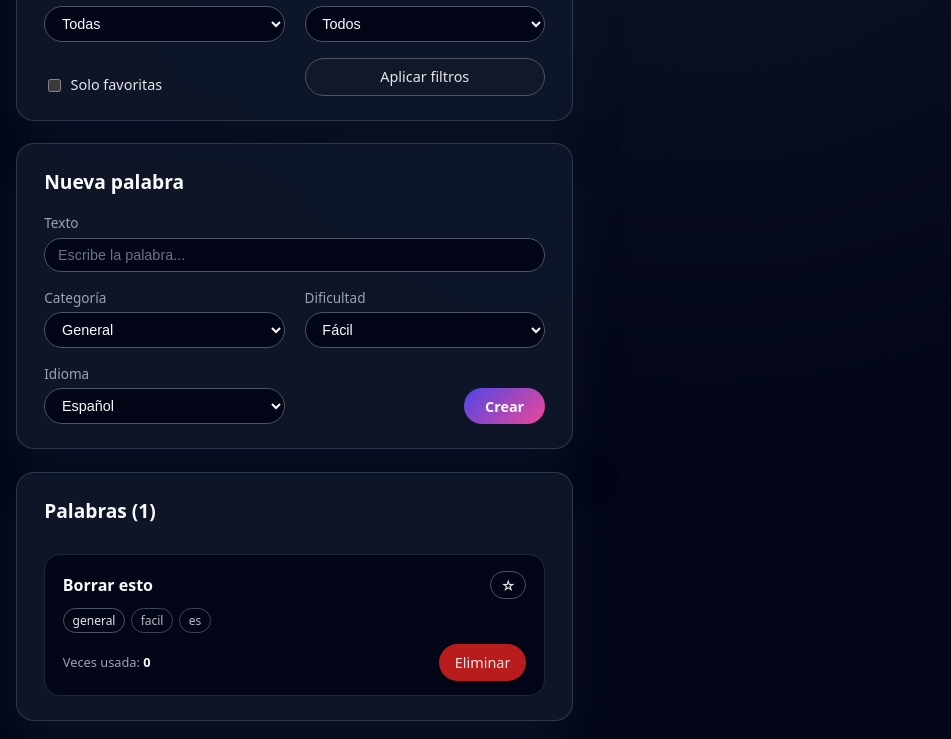
Test: App - creación y eliminación de palabras › permite eliminar una palabra
(page scrolled)
Expected: the heading "Borrar esto" is shown, [63,573,153,597]
Click the button "Eliminar" at (483, 663), box [439,644,526,681]
(page scrolled)
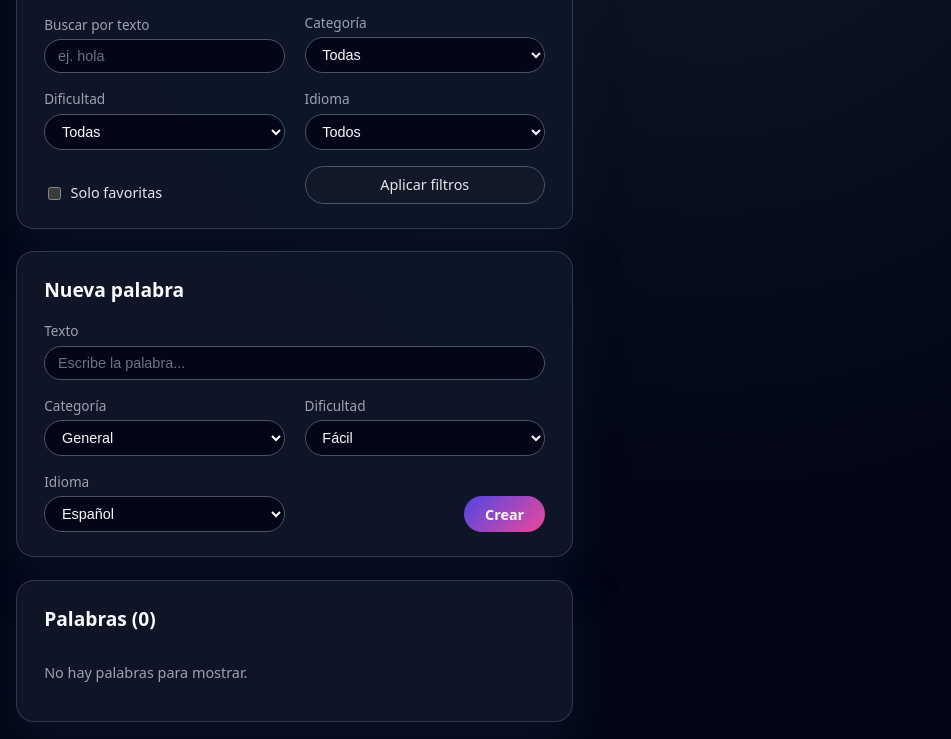
Now the heading "Borrar esto" is gone
